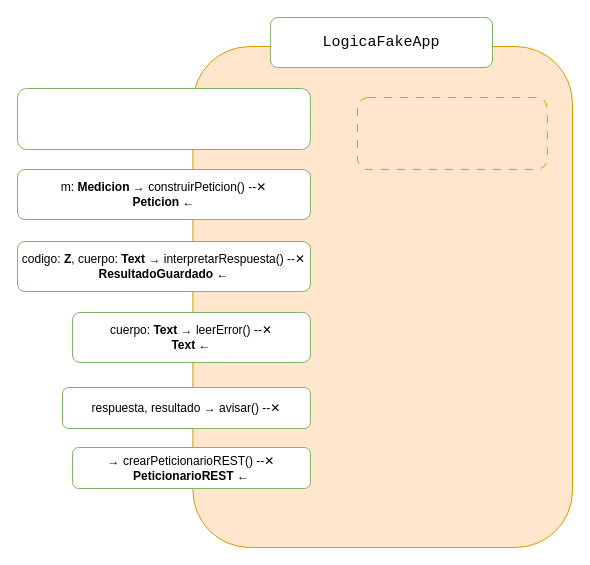
The diagram is 590 pixels wide and 565 high, and some of its shapes have lost their labels. Each missing label, with the box of its shape:
m: Medicion , respuesta: RespuestaApp → guardarMedicion() →: (16, 88, 310, 150)
METODO_POST: Text CLASE_VALIDACION: Text CLASE_PERSISTENCIA: Text: (356, 96, 547, 170)
